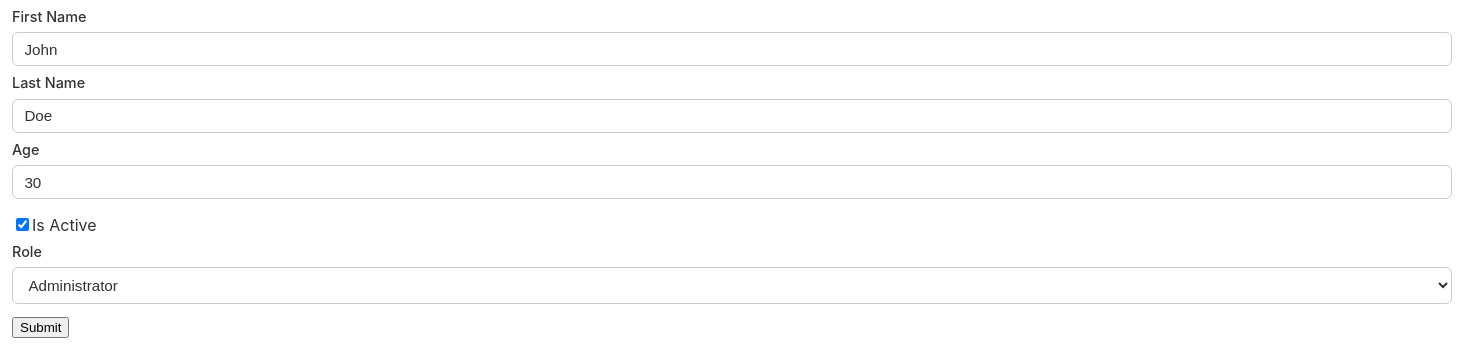
Test: FormEditor › disables submit button while submitting
Click the button with test id "form-submit-button" at (41, 327), box [12,317,70,338]
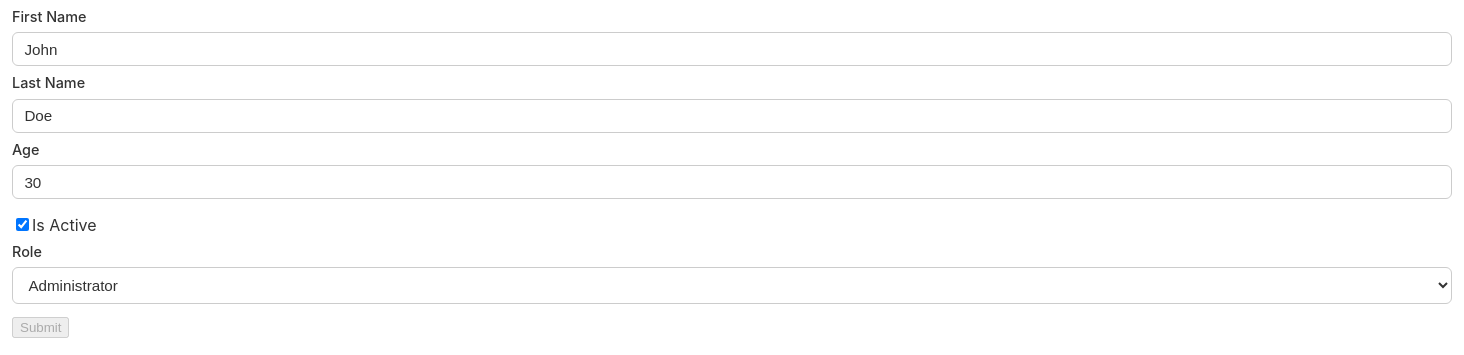
expect the button with test id "form-submit-button" is disabled: met, box [12,317,70,338]
